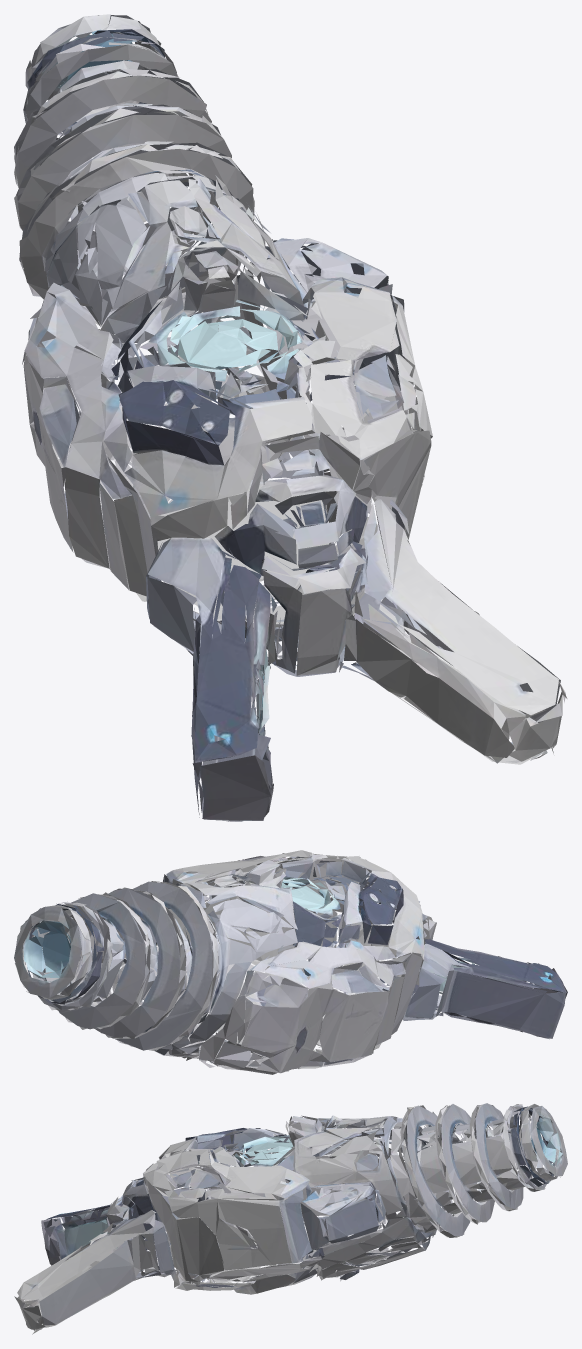
File: genesis_cannon.glb
3 views of the same model, one above another, from view 1: azimuth 30°, elevation 25°; view 2: azimuth 150°, elevation 25°; view 3: azimuth 270°, elevation 25° (orthographic). The views are drawn at different scales.
Visible parts, largest first — view 1: geometry_0; view 2: geometry_0; view 3: geometry_0.
Boxes of the visible parts, box(x1,y1,x2,y2) form: geometry_0: box(14, 14, 567, 821); geometry_0: box(14, 850, 567, 1074); geometry_0: box(14, 1103, 567, 1334).
Bounding box in the file's own units: 1.01 × 0.9438 × 2.01.
Materials: 1 (1 with a texture image).
